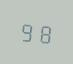eight: (36, 20, 52, 45)
nine: (19, 18, 35, 43)
